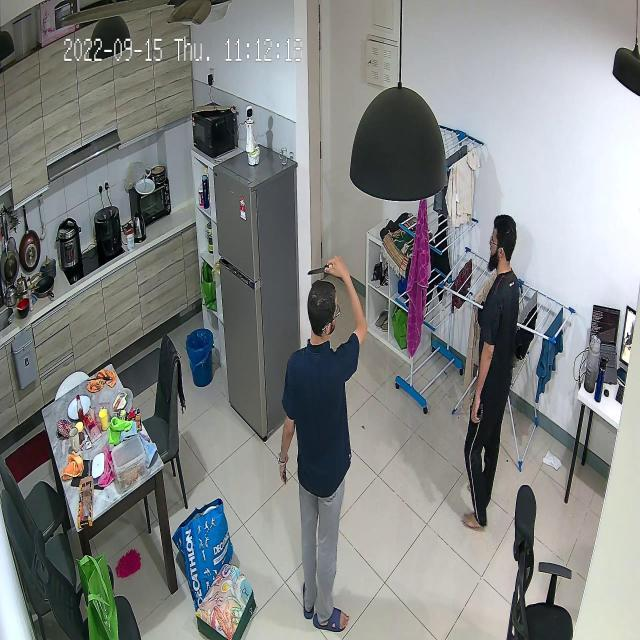Knife: (302, 261, 342, 281)
